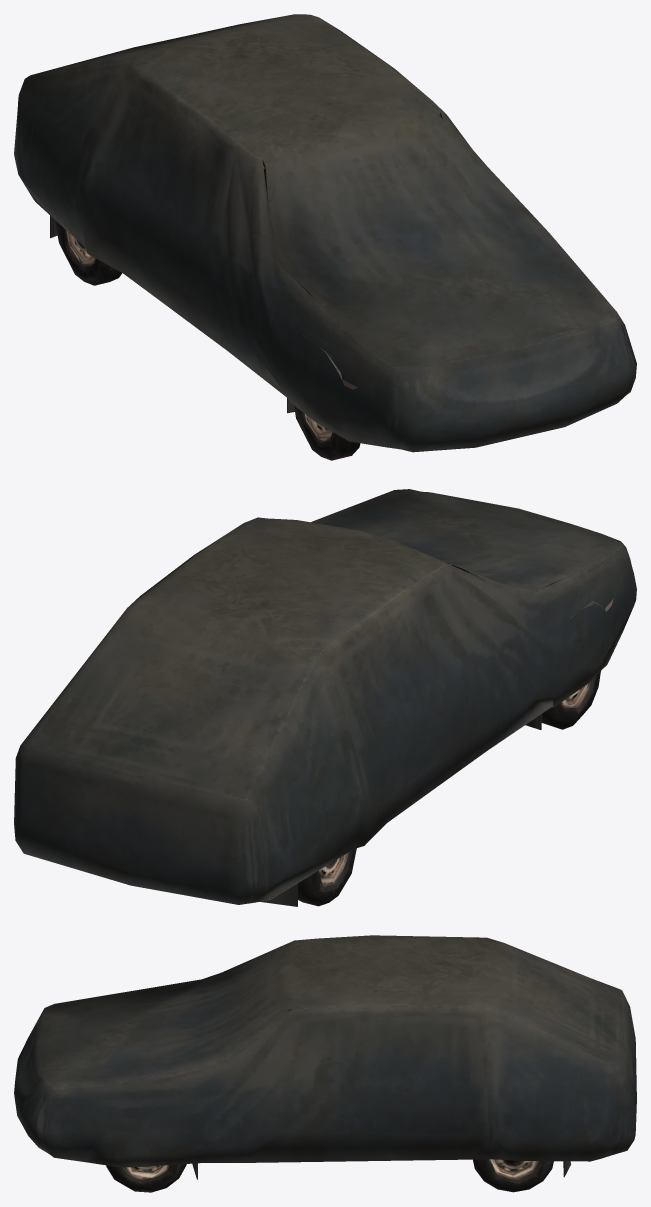
Rendered from car.glb.
3 views of the same model, one above another, from view 1: azimuth 30°, elevation 25°; view 2: azimuth 150°, elevation 25°; view 3: azimuth 270°, elevation 25° (orthographic). The views are drawn at different scales.
Visible parts, largest first — view 1: covered_car_wheel_01; view 2: covered_car_wheel_01; view 3: covered_car_wheel_01.
Part boxes in pixels (<box>): covered_car_wheel_01: <box>14,14,636,460</box>; covered_car_wheel_01: <box>14,489,636,906</box>; covered_car_wheel_01: <box>14,935,636,1192</box>.
Bounding box in the file's own units: 1.79 × 1.41 × 4.38.
1 material, 1 textured.
